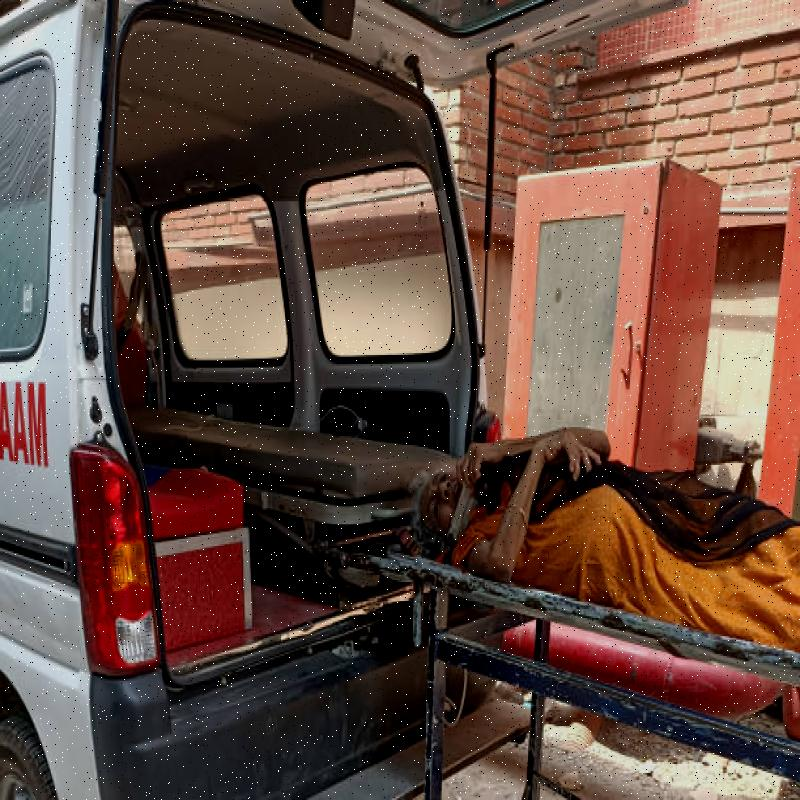ambulance: (0, 1, 478, 800)
